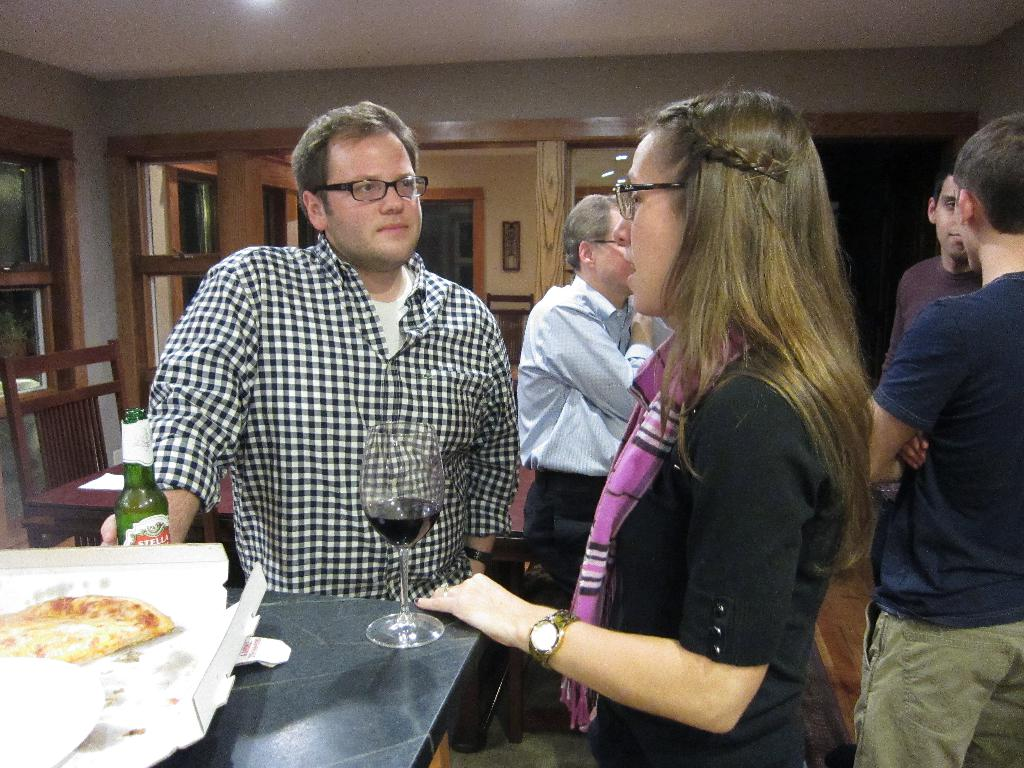Pizza: (7, 594, 166, 687)
